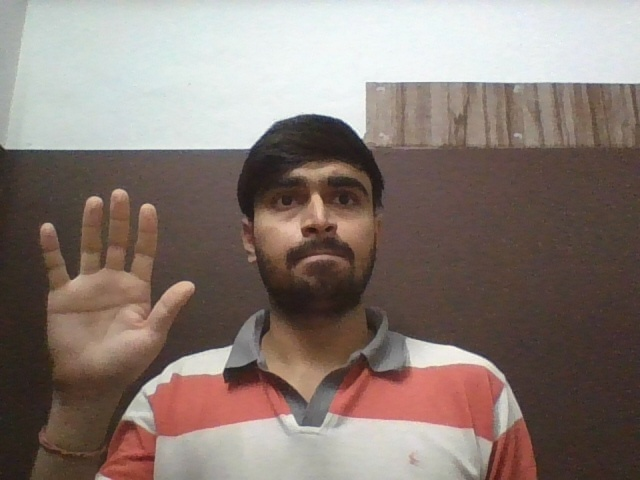Hello: (38, 188, 200, 391)
